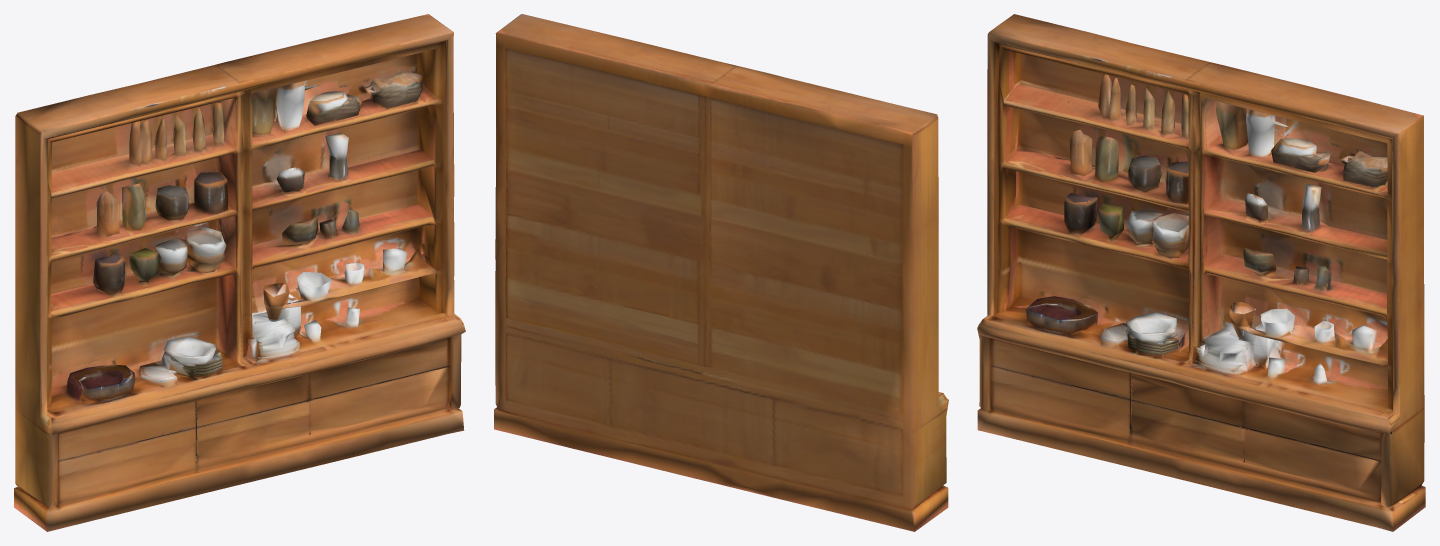
The model's file is displaycabinet.glb.
The picture shows the model from 3 angles, left to right: view 1: azimuth 30°, elevation 25°; view 2: azimuth 150°, elevation 25°; view 3: azimuth 330°, elevation 25°; orthographic projection.
Bounding box in the file's own units: 1.98 × 1.8 × 0.3024.
1 material, 1 textured.
